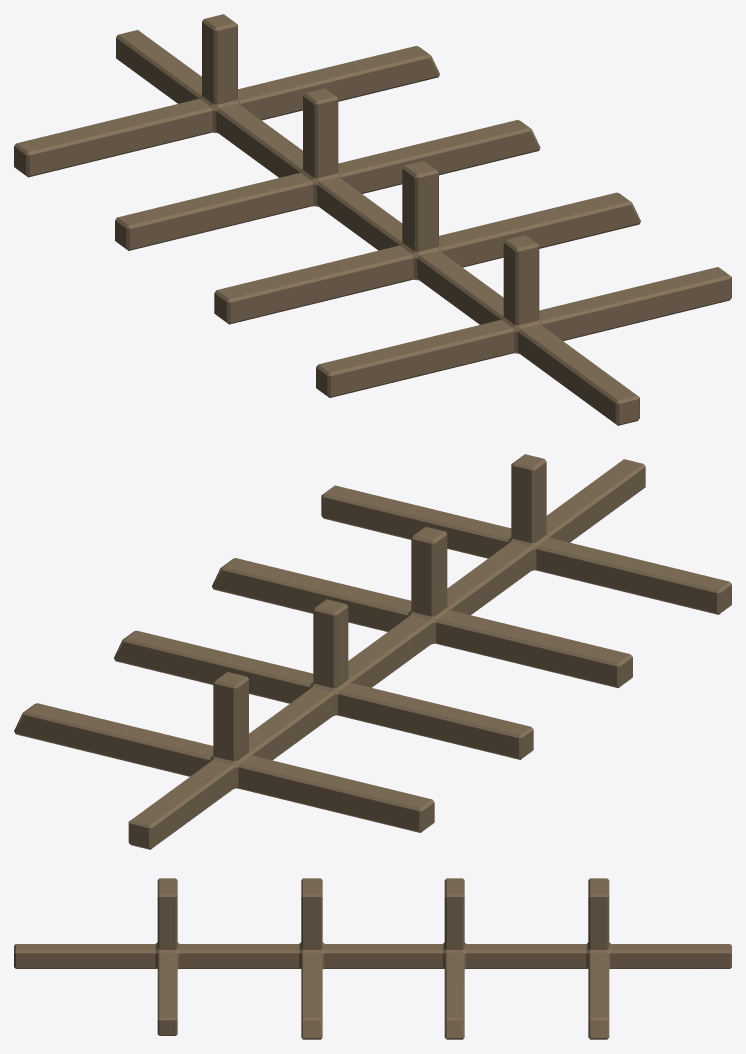
Rendered from SupportBeams.fbx.
3 renders of one model, top to bottom at view 1: azimuth 30°, elevation 25°; view 2: azimuth 150°, elevation 25°; view 3: azimuth 270°, elevation 25°, orthographic. The views are drawn at different scales.
Visible parts, largest first — view 1: SupportBeam; view 2: SupportBeam; view 3: SupportBeam.
Boxes of the visible parts, x1,y1,x2,y2 form: SupportBeam: [14, 14, 731, 425]; SupportBeam: [14, 454, 731, 849]; SupportBeam: [14, 878, 731, 1039].
Size of the model in its own units: 4.04 by 0.9703 by 8.49.
